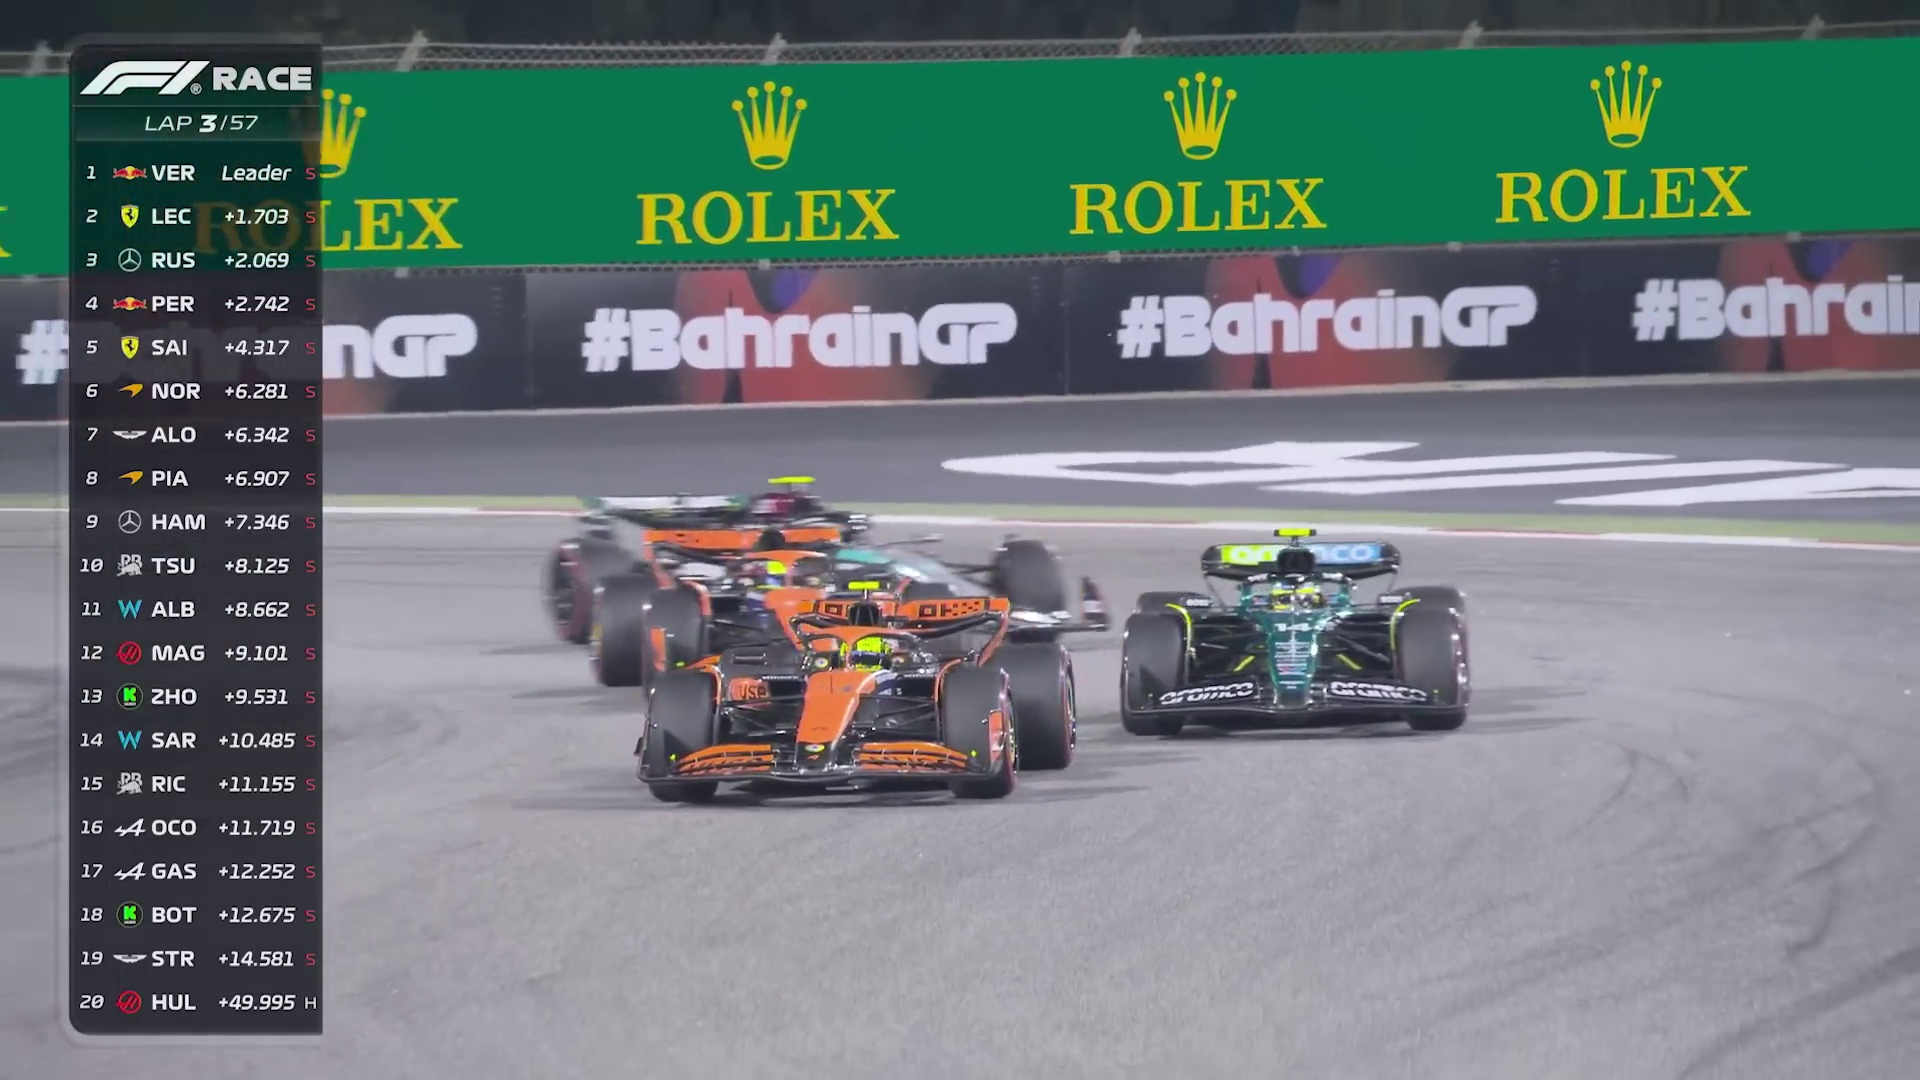AstonMartin: (1127, 541, 1476, 727)
Mclaren: (632, 597, 1073, 812)
